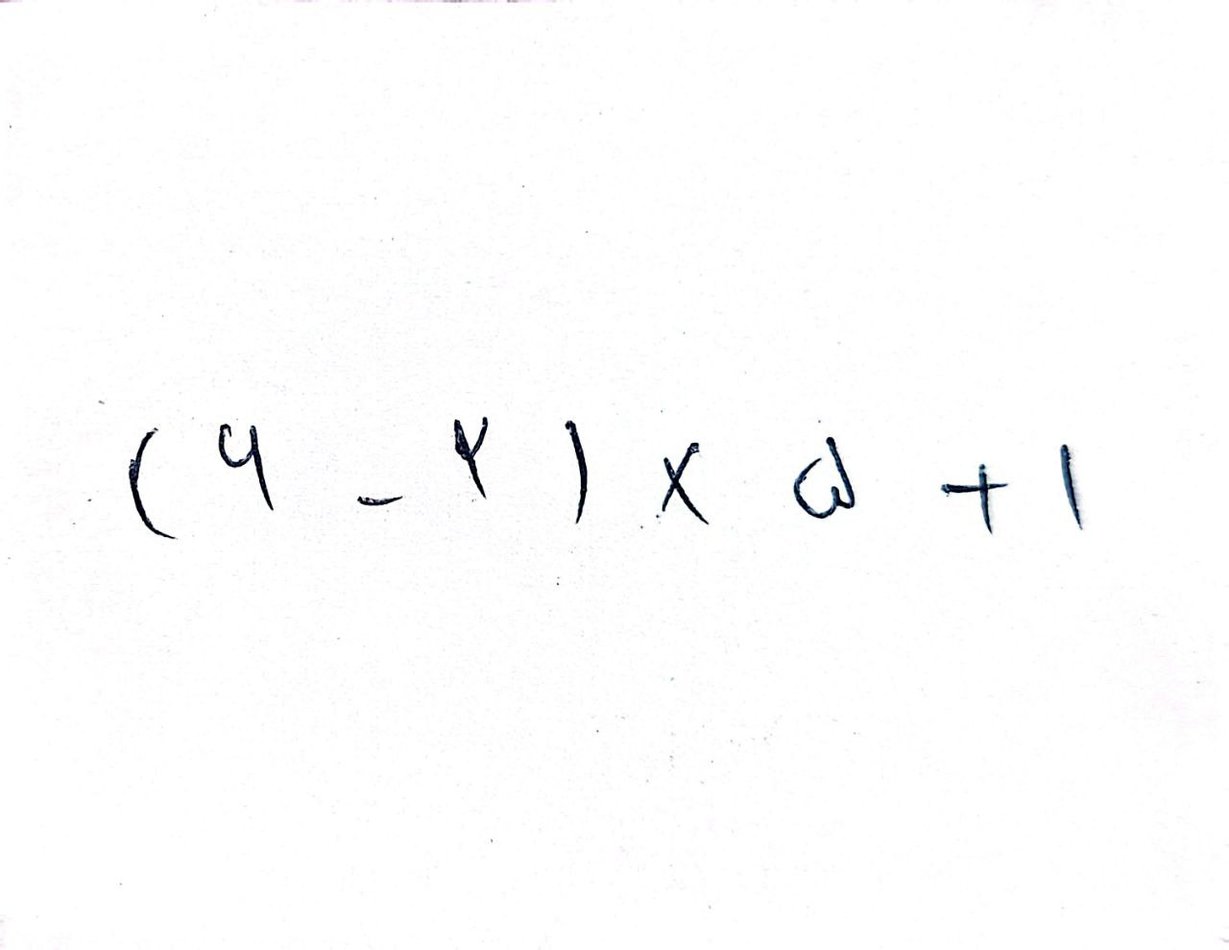character: (123, 424, 184, 545), (214, 417, 278, 516), (789, 430, 859, 518), (651, 437, 713, 532), (938, 461, 1009, 537), (449, 413, 494, 505), (562, 415, 590, 525), (1058, 439, 1086, 533), (353, 491, 403, 510)
